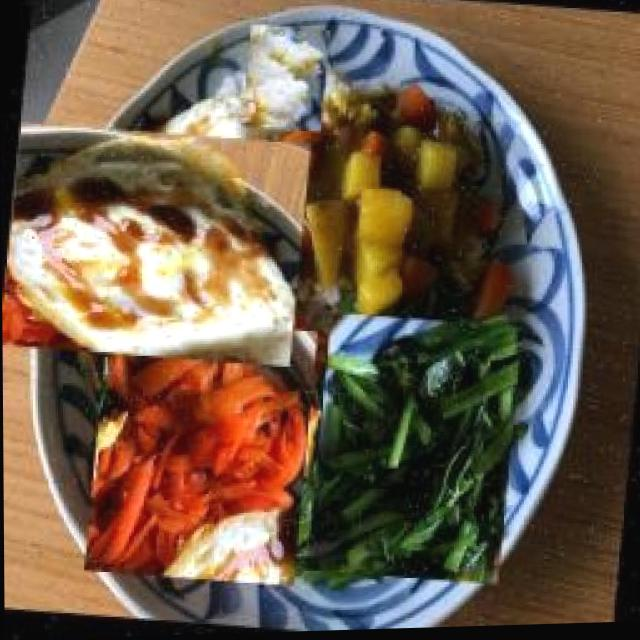carrot_eggs: (82, 310, 321, 593)
curry: (263, 72, 488, 330)
fried_eggs: (6, 98, 295, 393)
rice: (235, 27, 336, 130)
water_spinach: (304, 310, 523, 593)
